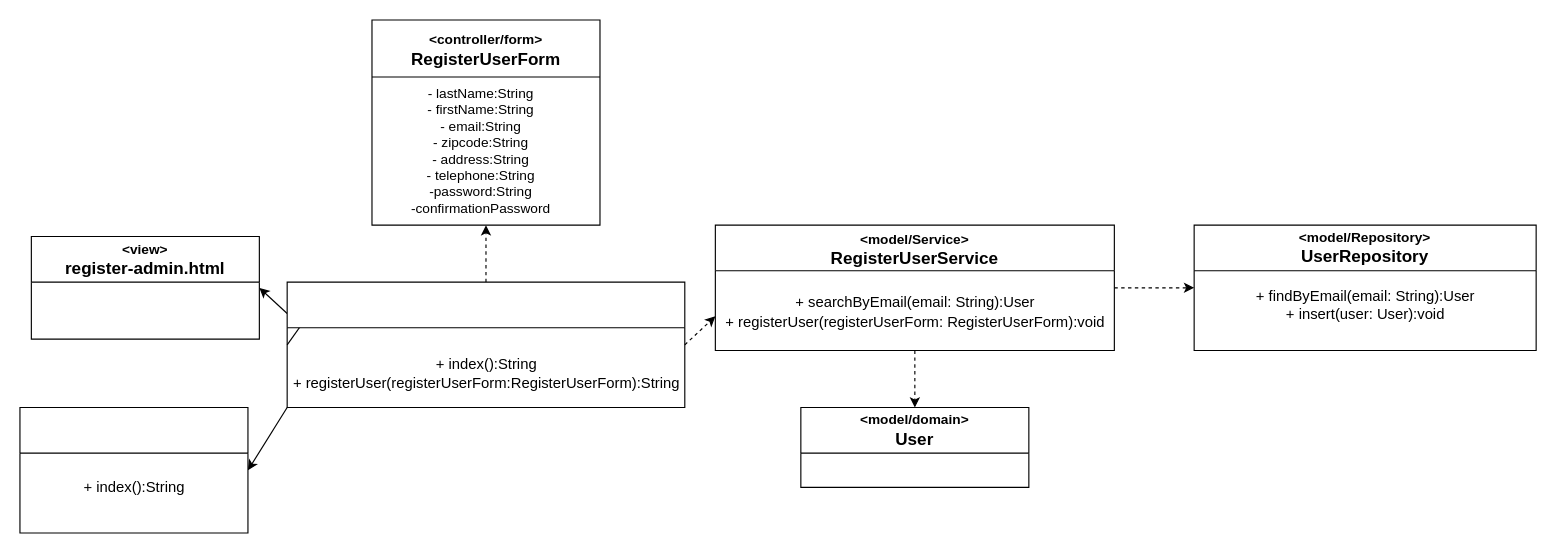
Image size: 1556x553. Some labels were removed from this diagram. The shapes that lost their labels are listed below. From the top down, each one's box as (x1, y1, x2, y2) in pixels, then its label:
(286, 281, 685, 408): <controller> RegisterUserController
(19, 406, 248, 533): <controller> LoginController
